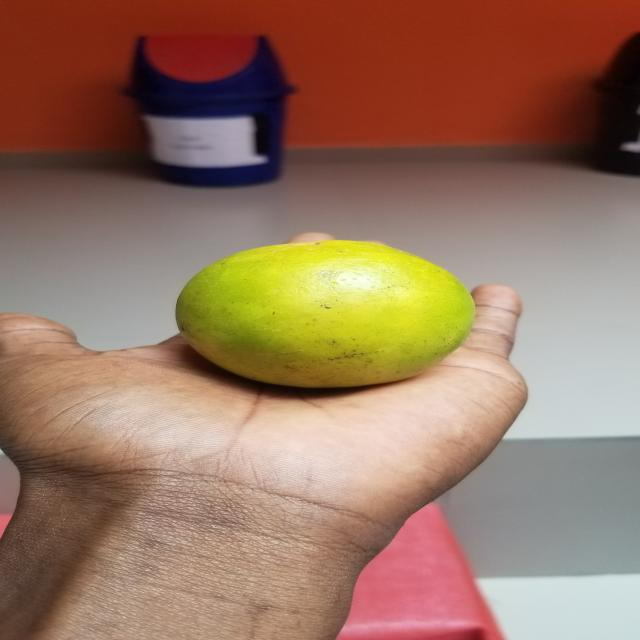Ripe orange: (173, 226, 477, 411)
